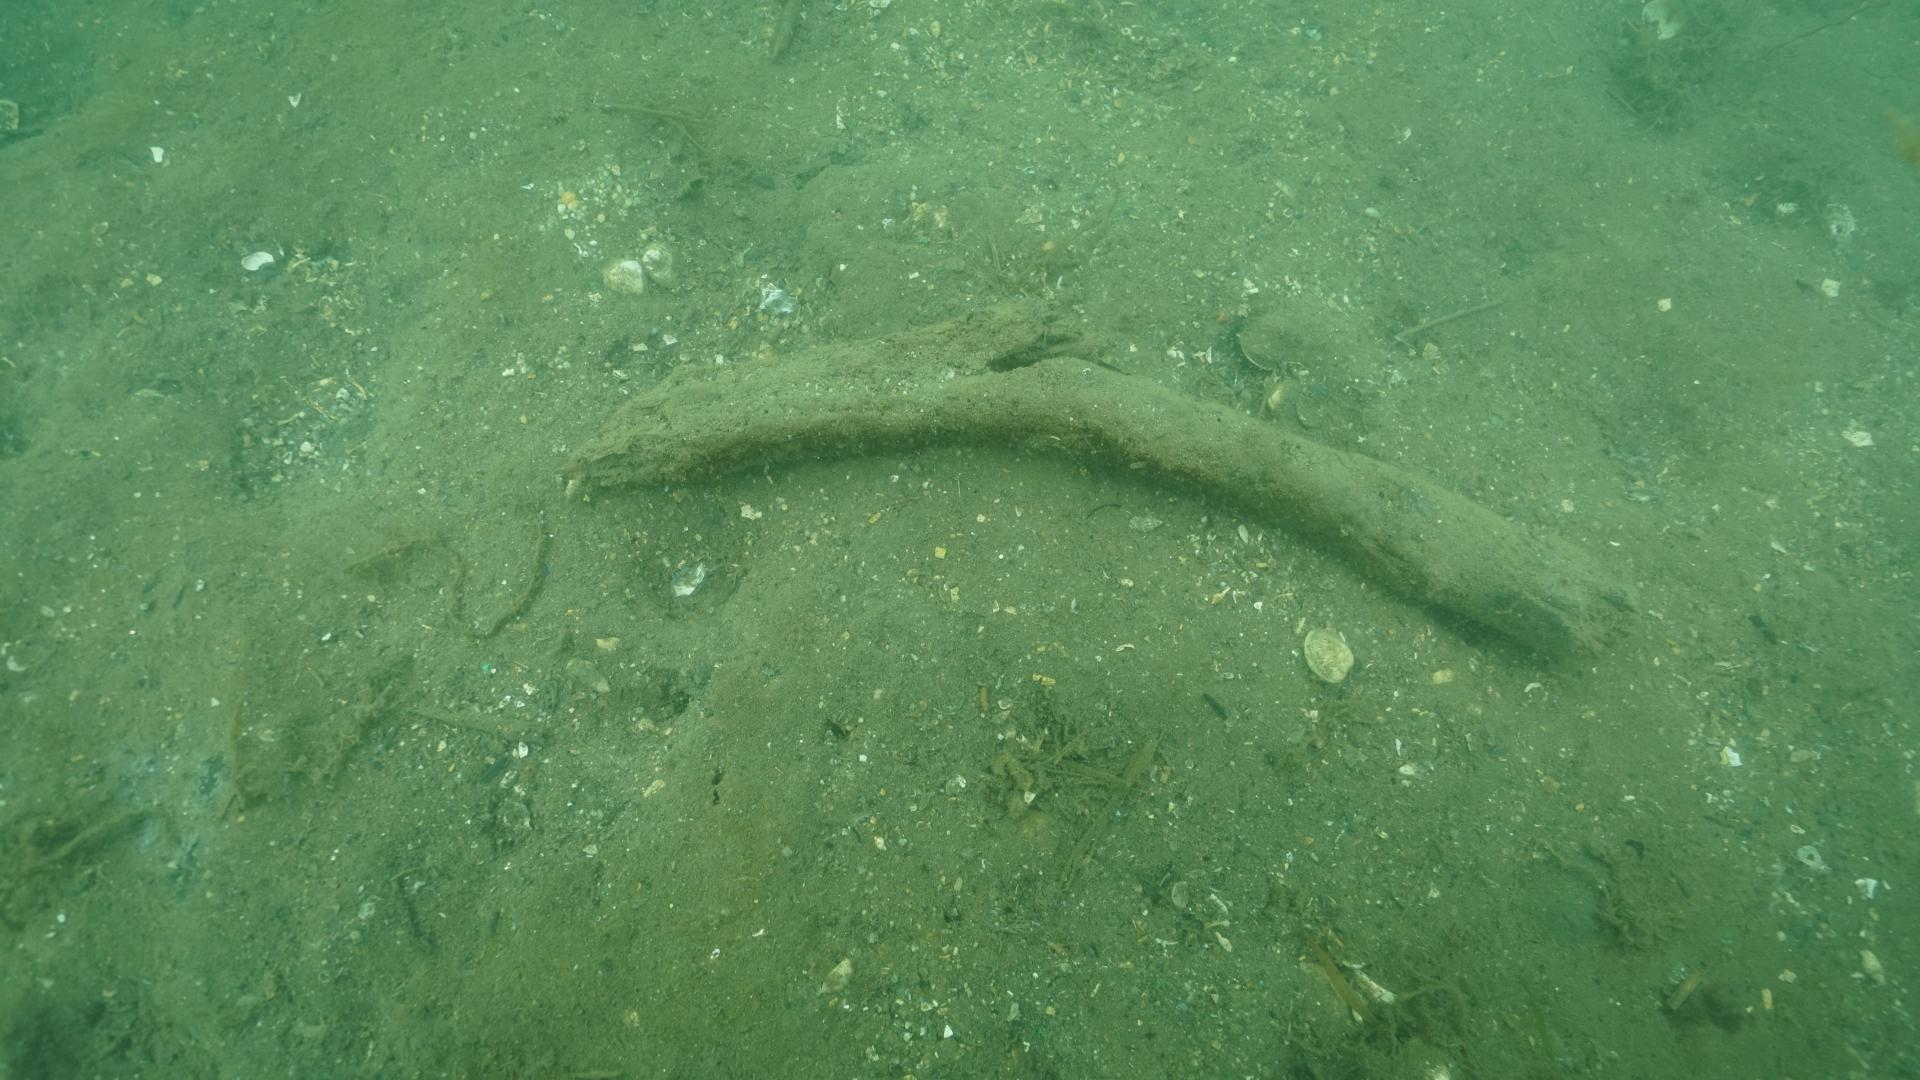wood: (549, 295, 1640, 661)
